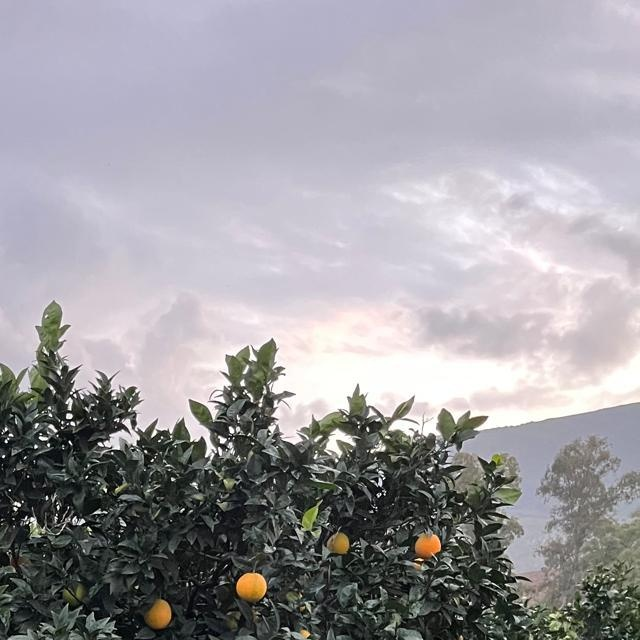orange: (232, 569, 268, 601), (144, 594, 172, 630), (413, 528, 443, 560), (59, 571, 87, 605), (326, 528, 350, 554), (286, 626, 316, 640)
